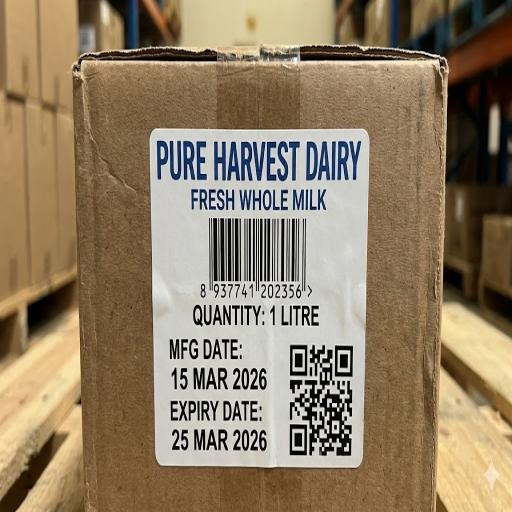barcoderotation: (193, 216, 319, 300)
expiry_daterotation: (166, 394, 272, 457)
labelrotation: (151, 135, 363, 466)
mfg_daterotation: (165, 333, 273, 390)
qr_coderotation: (280, 340, 357, 462)
quantityrotation: (190, 304, 326, 328)
